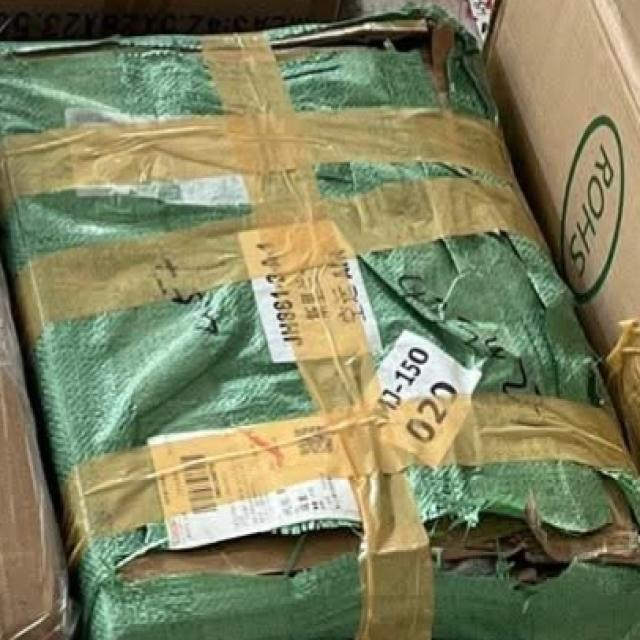carton_box: (0, 0, 640, 640)
export_mark_label: (138, 426, 402, 551)
package_damage: (109, 478, 640, 602), (9, 14, 516, 100)
